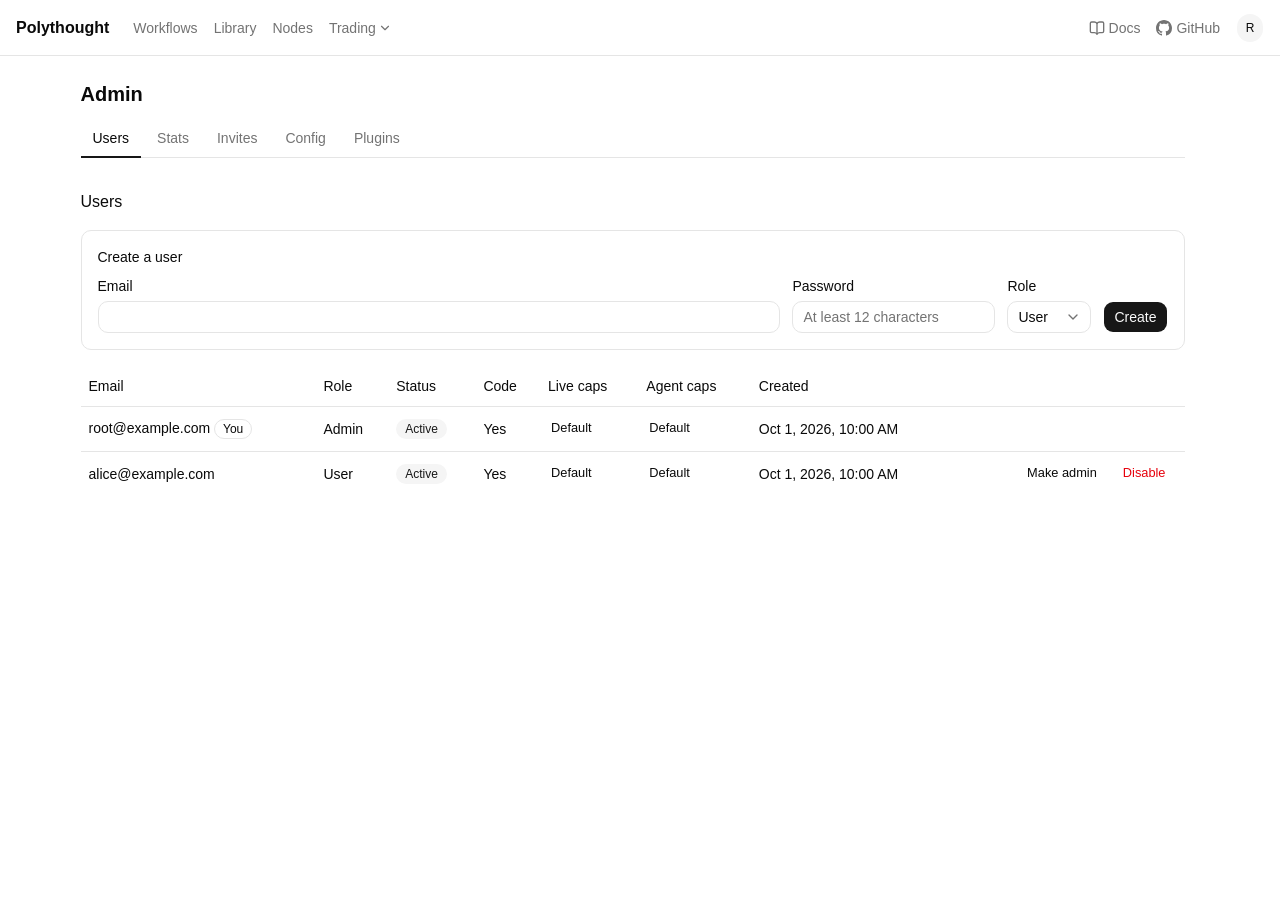
Test case: admin page › sets a user's agent caps, beside their spend this month (D271, D277)
Expected: the text "alice@example.com" is shown, [80,451,316,496]
Click the button with aria-label "Agent caps of alice@example.com" at (670, 474), box [638,460,701,488]
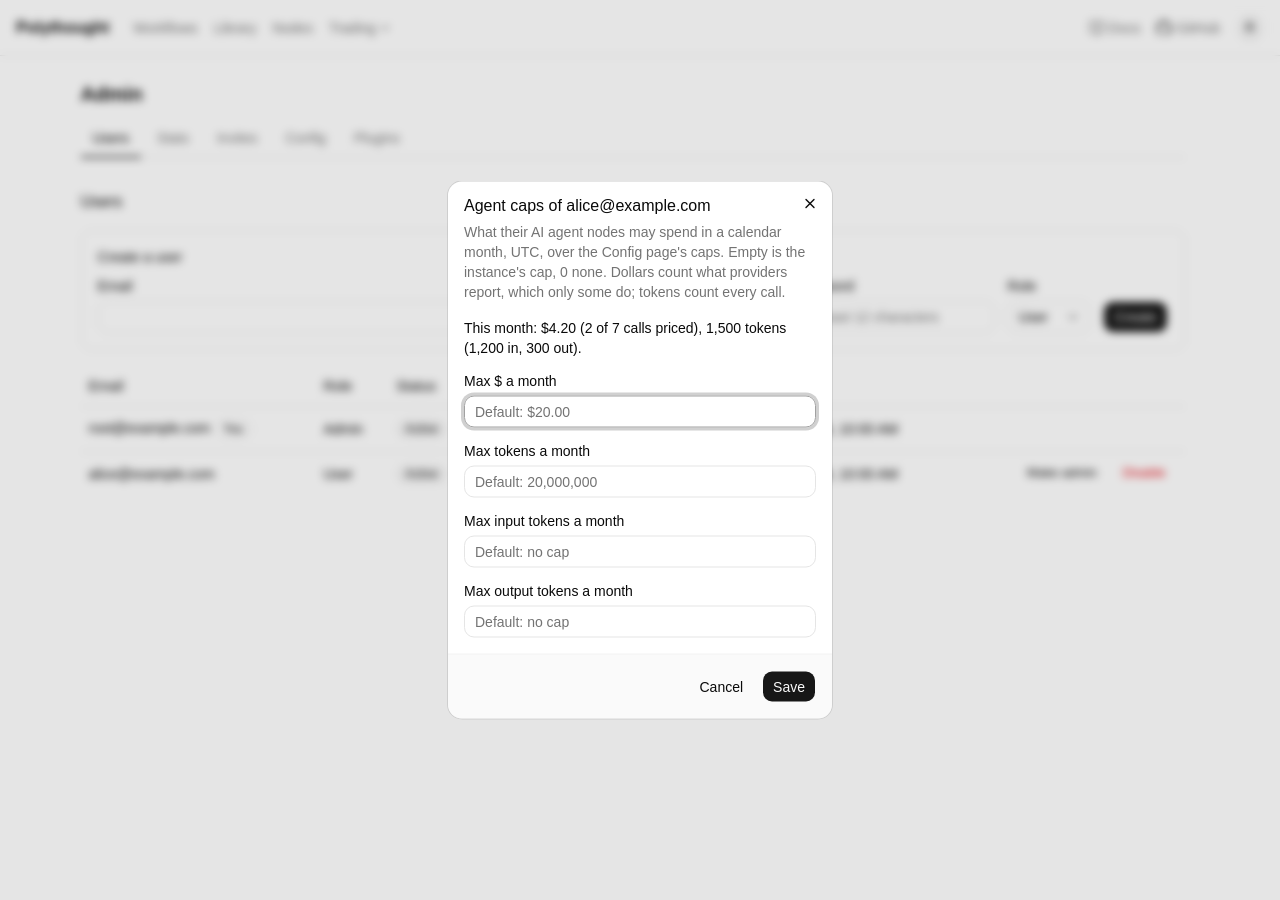
Now the text "This month: $4.20 (2 of 7 calls priced), 1,500 tokens (1,200 in, 300 out)." is shown, box [464,318,816,358]
Type "12.50" into the field labelled "Max $ a month" at (640, 412), box [464,396,816,428]
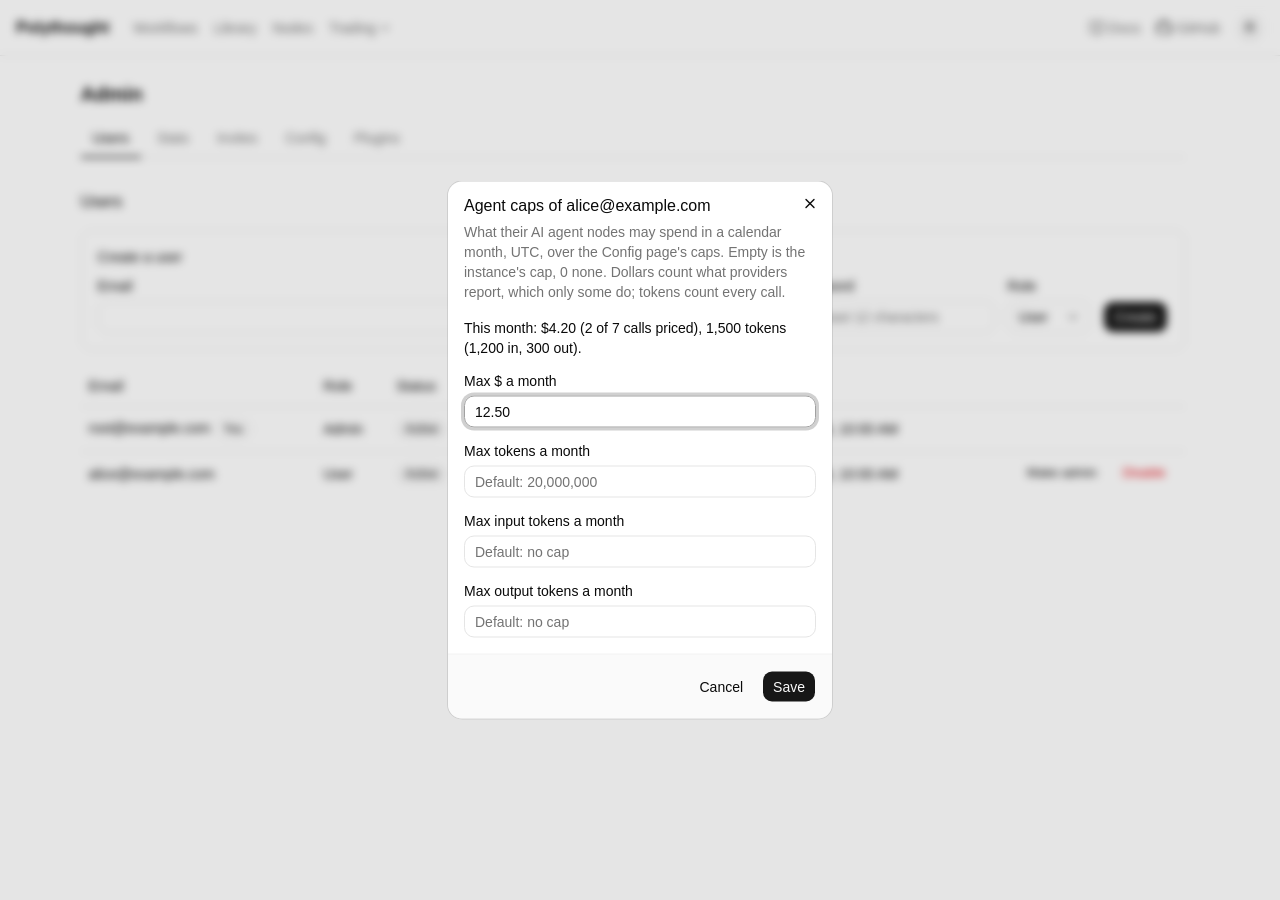
Type "0" into the number field labelled "Max output tokens a month" at (640, 622), box [464,606,816,638]
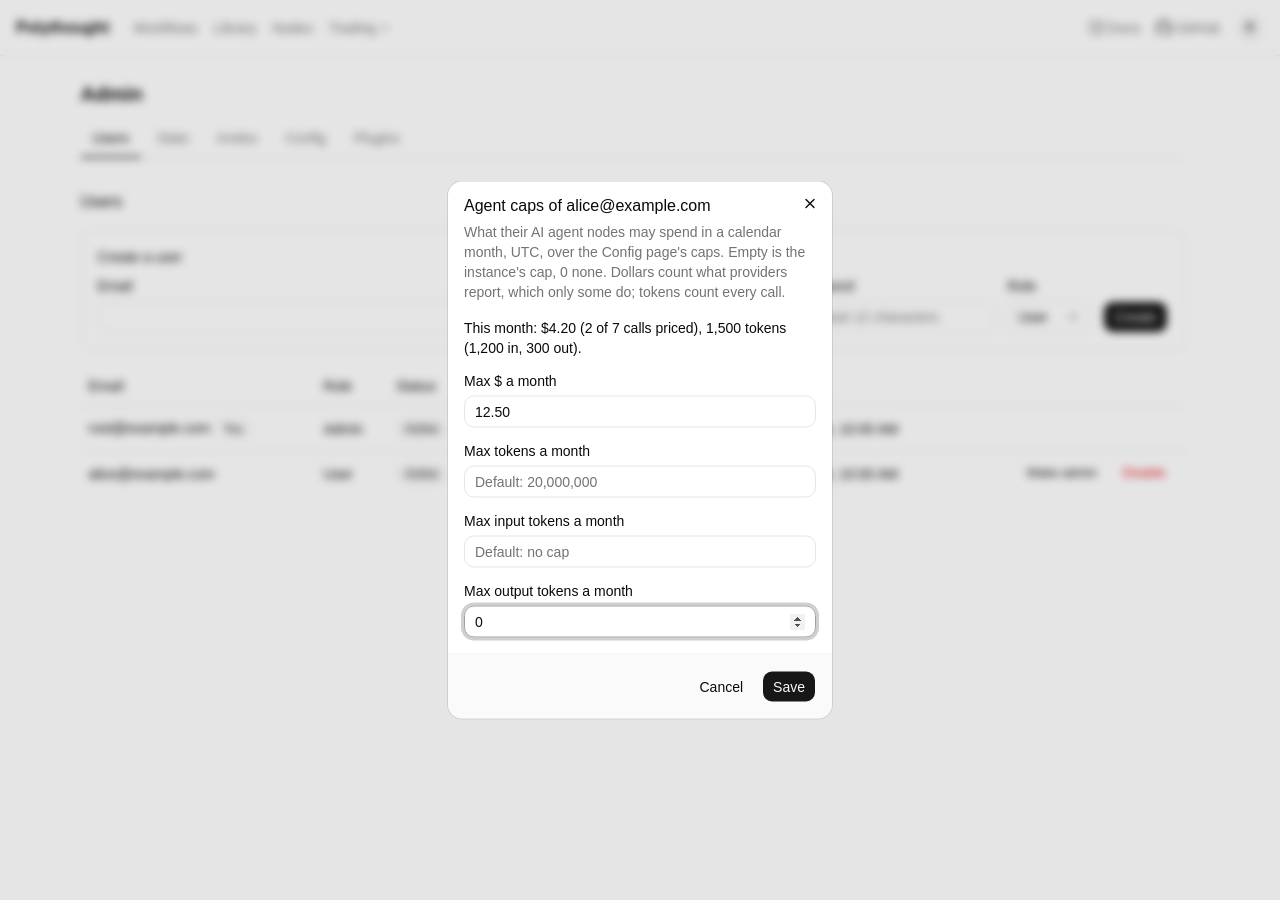
Click the button "Save" at (789, 686), box [762,670,816,702]
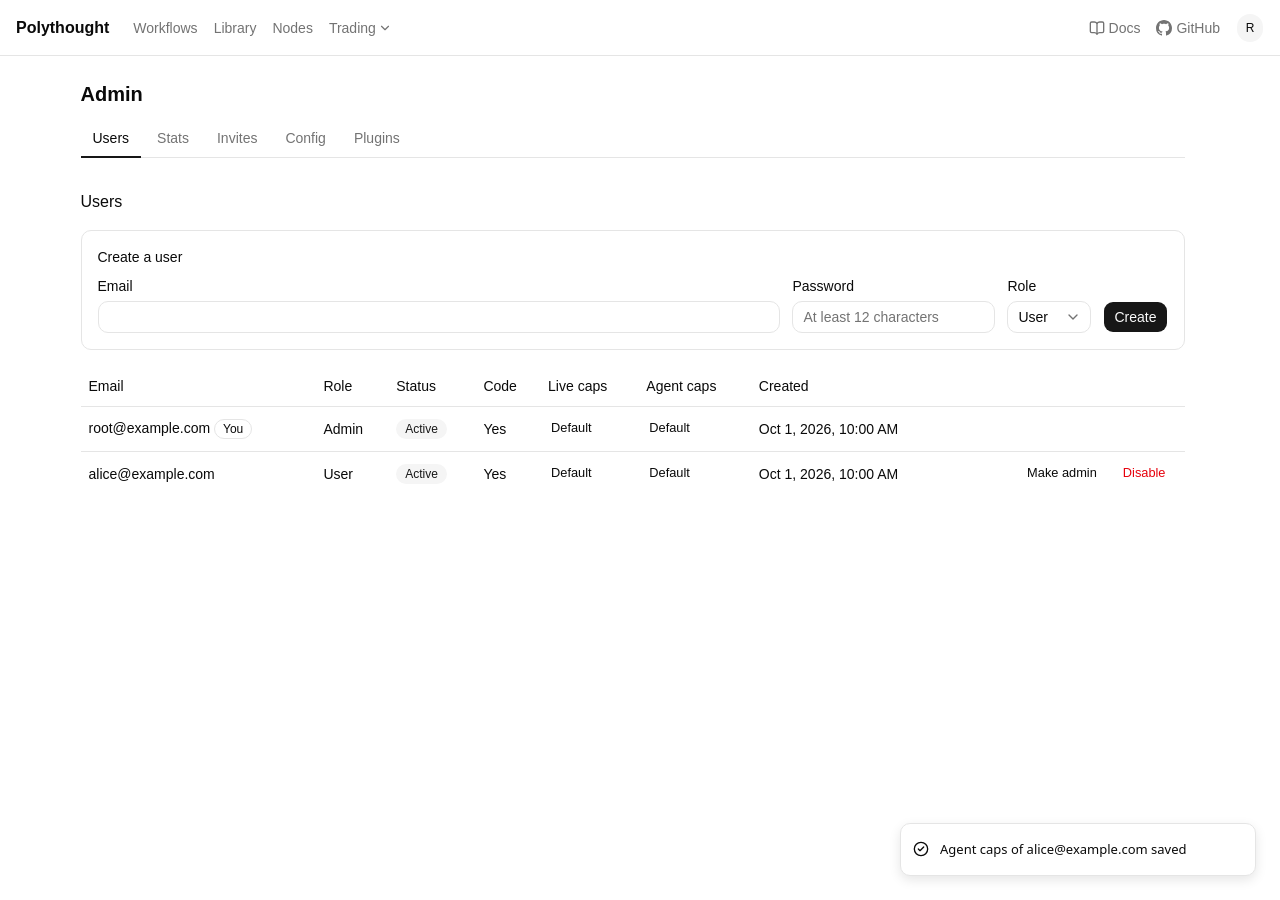
Now the text "Agent caps of alice@example.com saved" is shown, box [940,840,1186,859]
